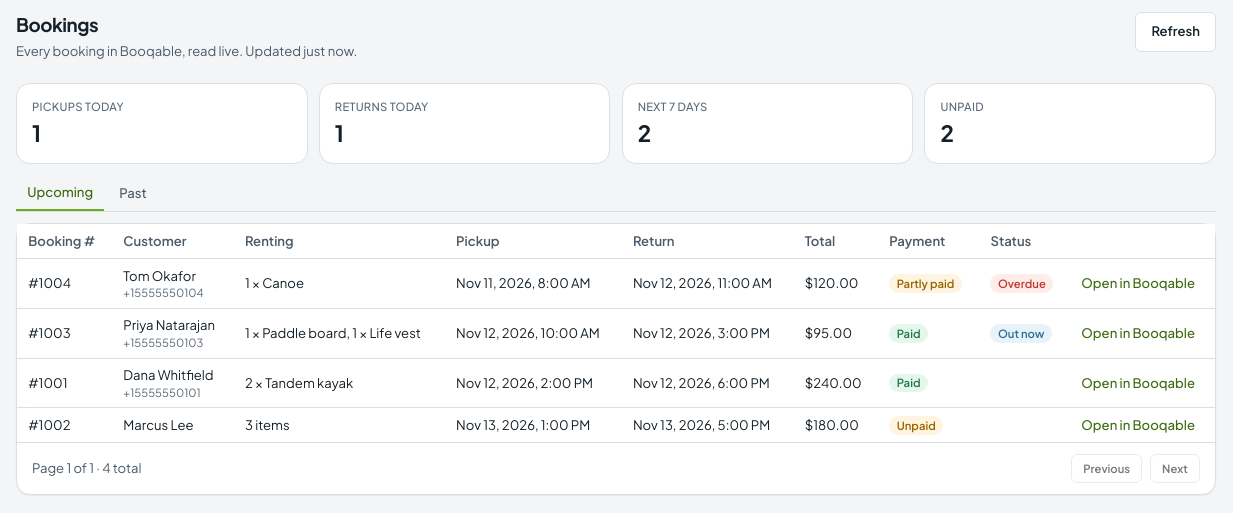
Test case: BookingsPage › reloads another tab after Refresh instead of showing its stale cache
Later steps or results of the test are not shown.
Check: the text "Dana Whitfield" is shown, box [123,366,214,383]
What coordinates should you click on to do the following:
click the tab "Past"
I would click on:
 (133, 193)
Its box is [108,175,158,211].
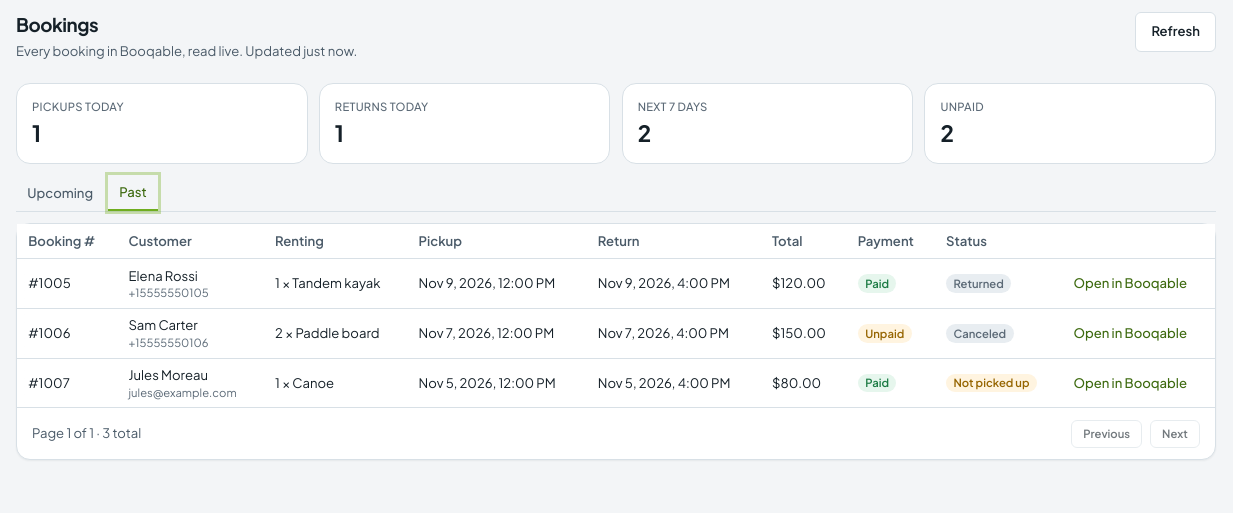
Check: the text "Returned" is shown, box [946,274,1011,293]
